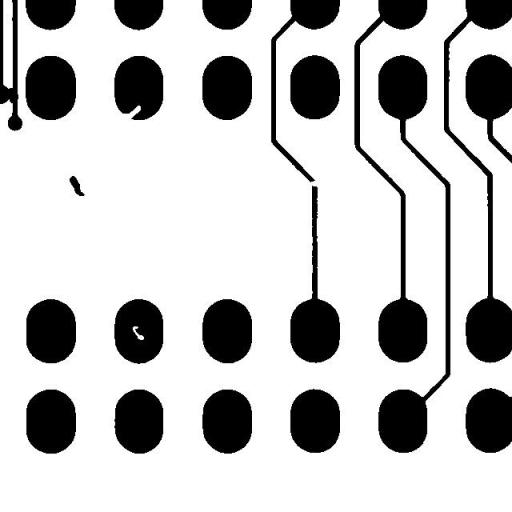copper: (62, 168, 92, 203)
mousebite: (114, 98, 148, 126)
open: (302, 172, 326, 194)
pin-hole: (125, 318, 151, 348)
short: (0, 80, 26, 110)
